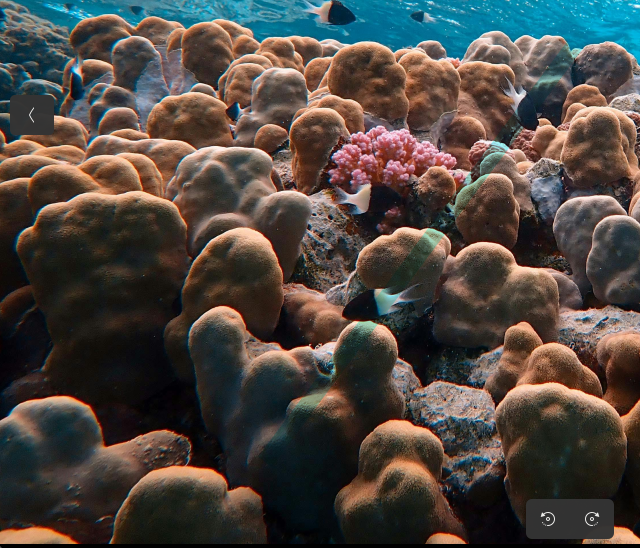fishRound: (340, 283, 424, 323), (334, 183, 406, 219), (500, 75, 539, 131), (300, 1, 357, 25), (225, 100, 253, 123), (410, 10, 437, 25), (129, 3, 151, 19)
